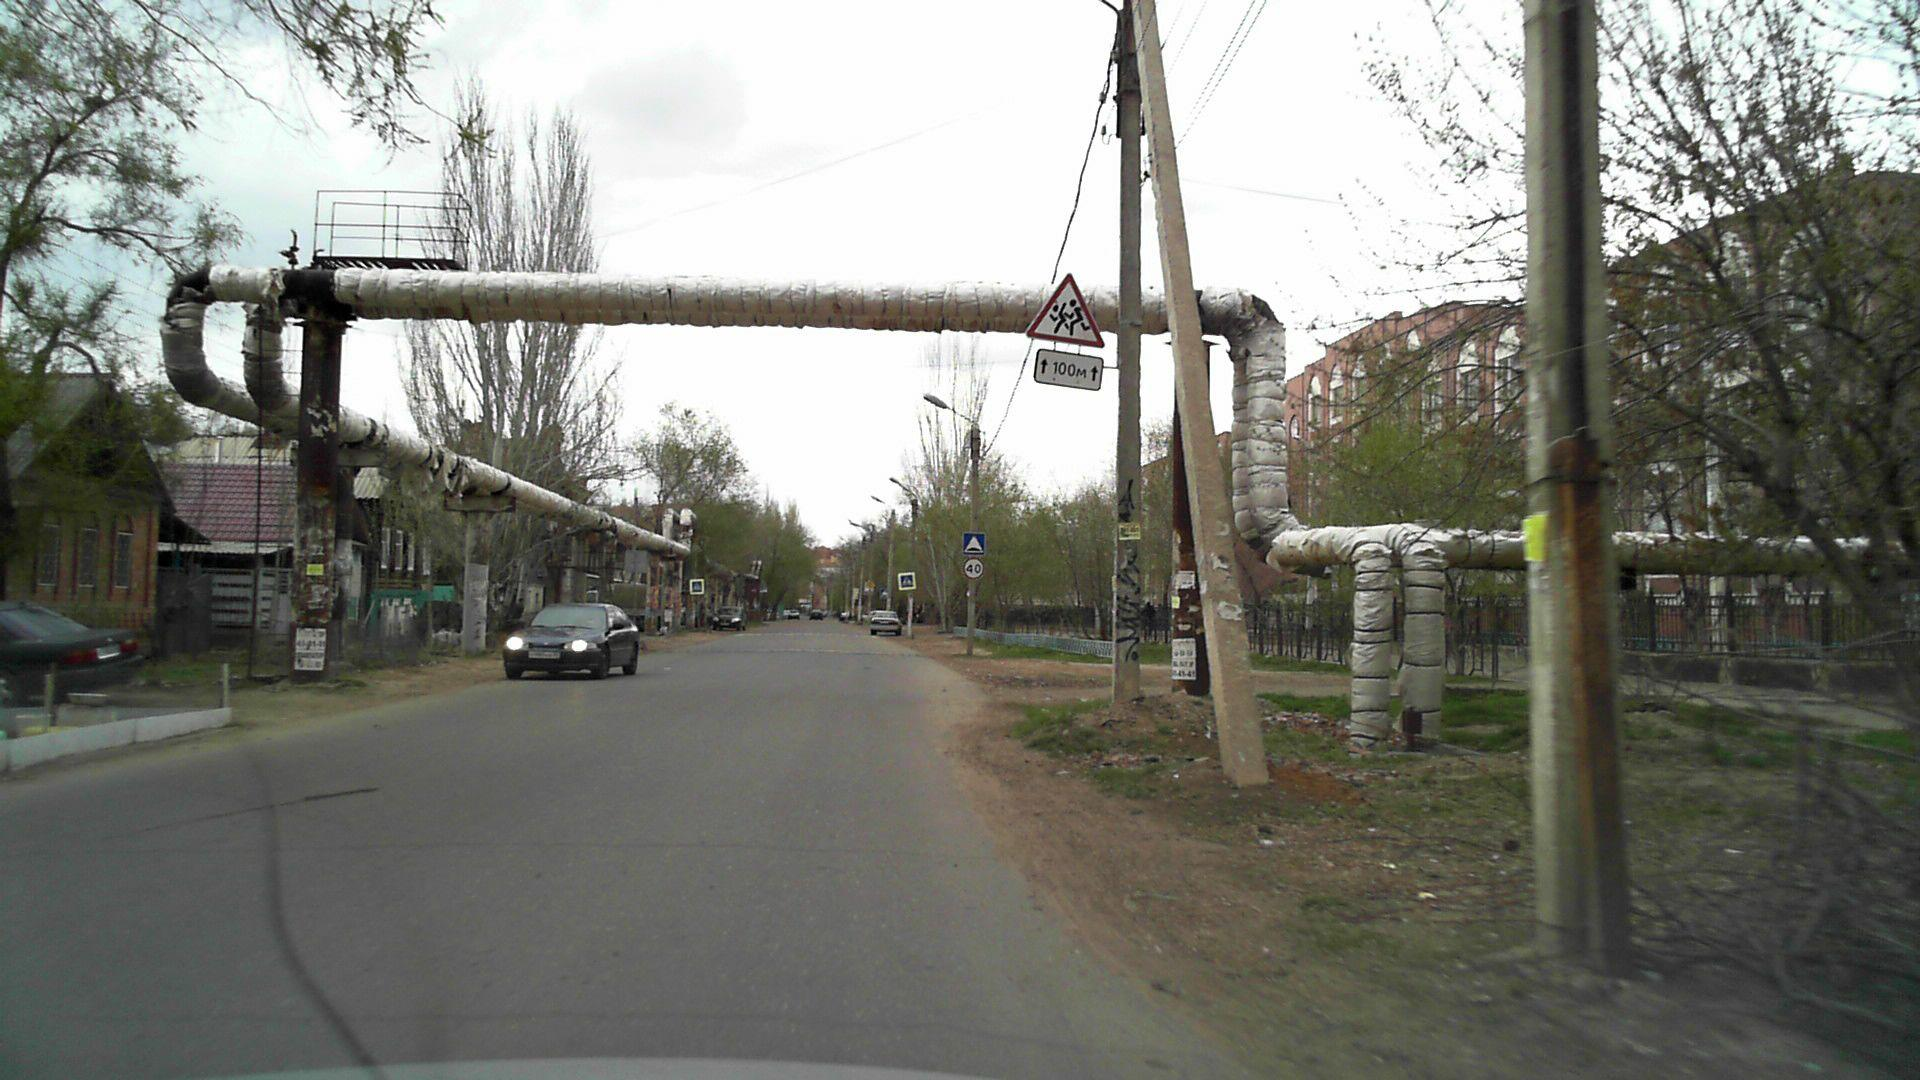1_23: (1030, 270, 1106, 344)
2_1: (865, 579, 876, 591)
3_24: (964, 558, 984, 580)
5_19_1: (898, 572, 916, 589)
5_19_2: (691, 579, 703, 592)
5_20: (963, 531, 988, 555), (882, 588, 889, 599)
8_2_1: (1035, 349, 1104, 392)
